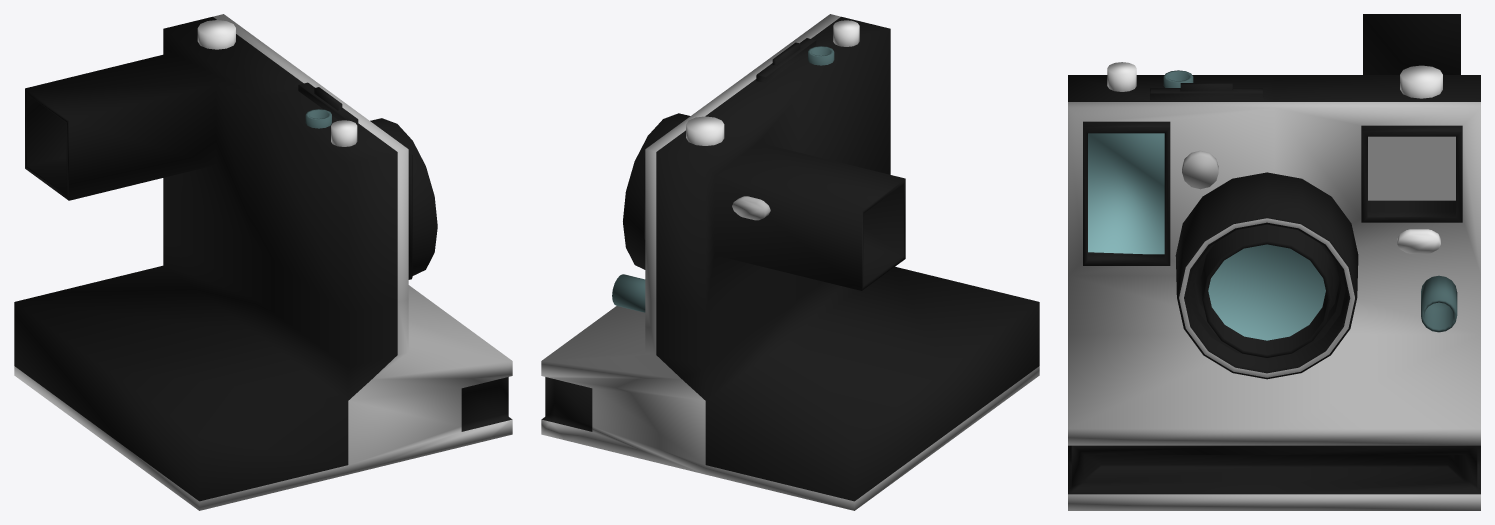
The model's file is CamaraViewFinder.fbx.
3 renders of one model, left to right at view 1: azimuth 30°, elevation 25°; view 2: azimuth 150°, elevation 25°; view 3: azimuth 270°, elevation 25°, orthographic. The views are drawn at different scales.
Parts seen in each view (by area): view 1: Camara_ViewFinder; view 2: Camara_ViewFinder; view 3: Camara_ViewFinder, Plano_Proyeccion.
Boxes of the visible parts, x1,y1,x2,y2 form: Camara_ViewFinder: (14, 14, 512, 510); Camara_ViewFinder: (541, 14, 1039, 510); Camara_ViewFinder: (1068, 14, 1480, 510); Plano_Proyeccion: (1368, 136, 1455, 200).
Size of the model in its own units: 225 by 219 by 220.
